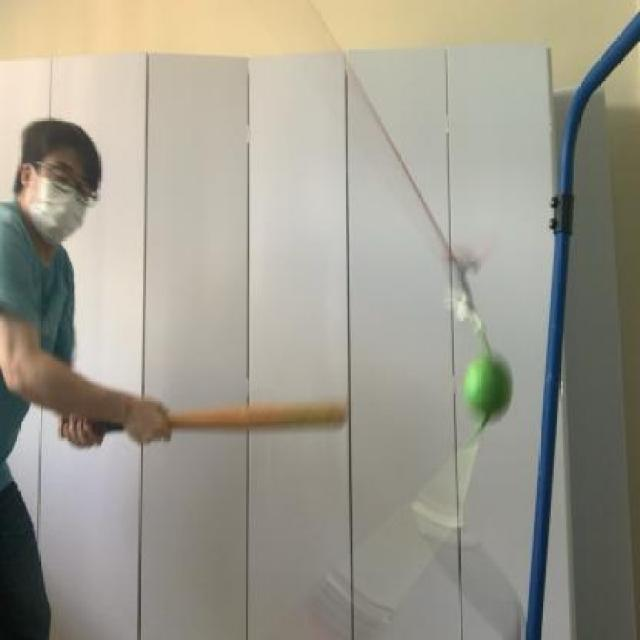baseball: (460, 343, 514, 425)
